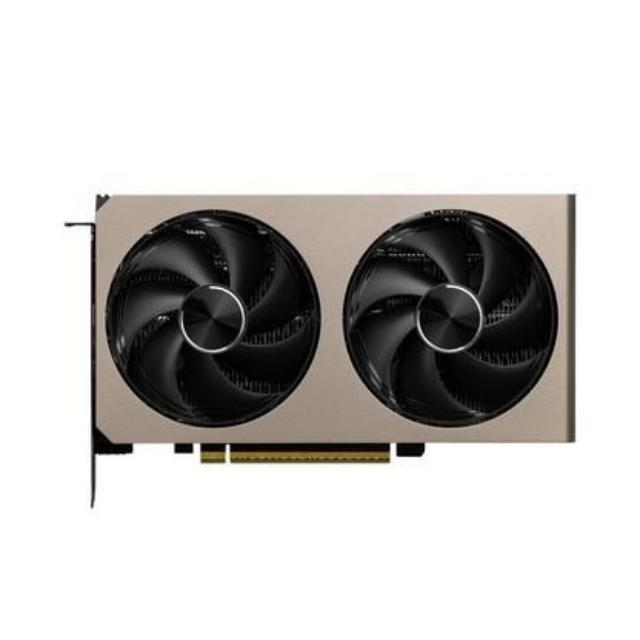GPU: (78, 180, 586, 474)
